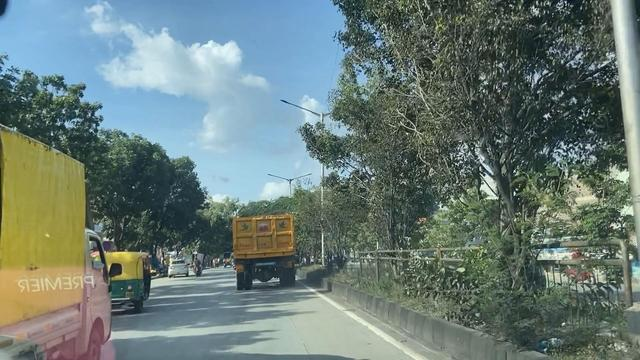HMV: (1, 123, 112, 360), (227, 214, 294, 292)
